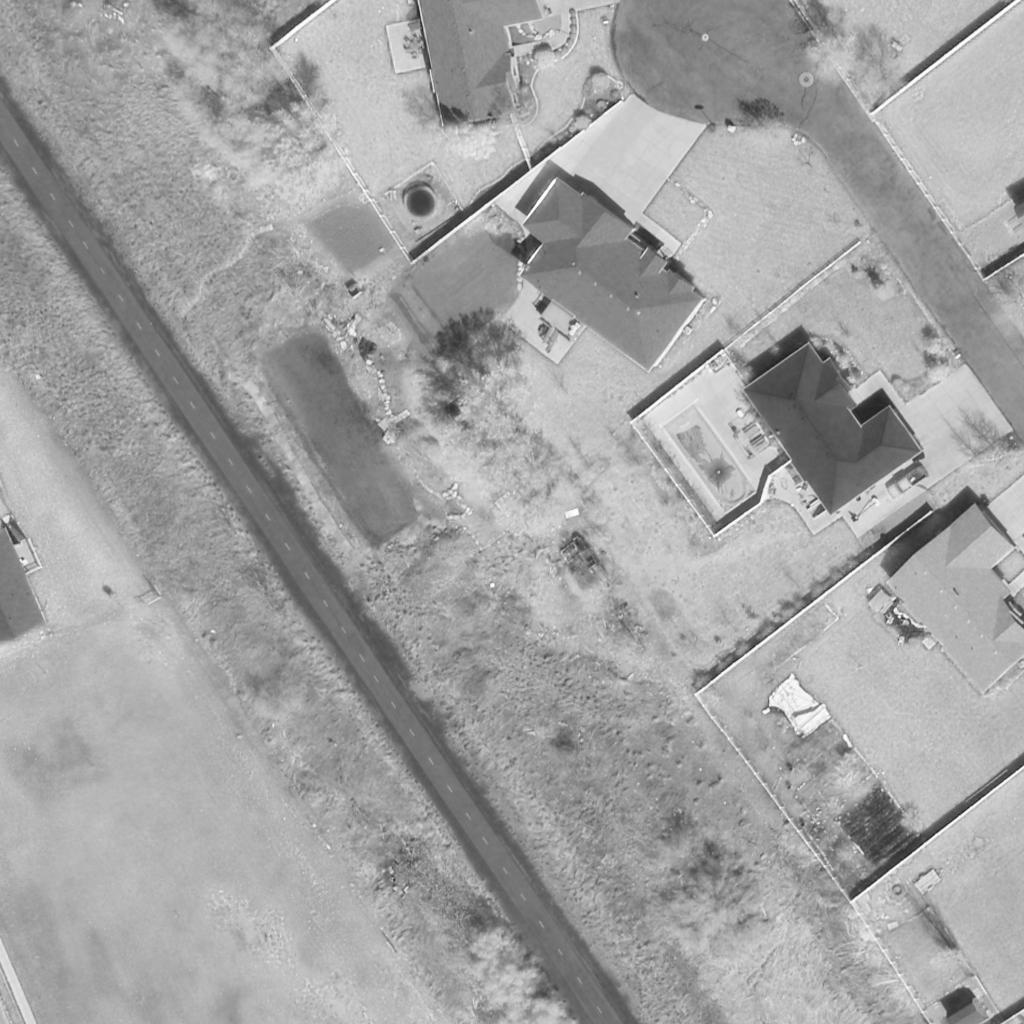vehicle: (884, 465, 930, 499)
